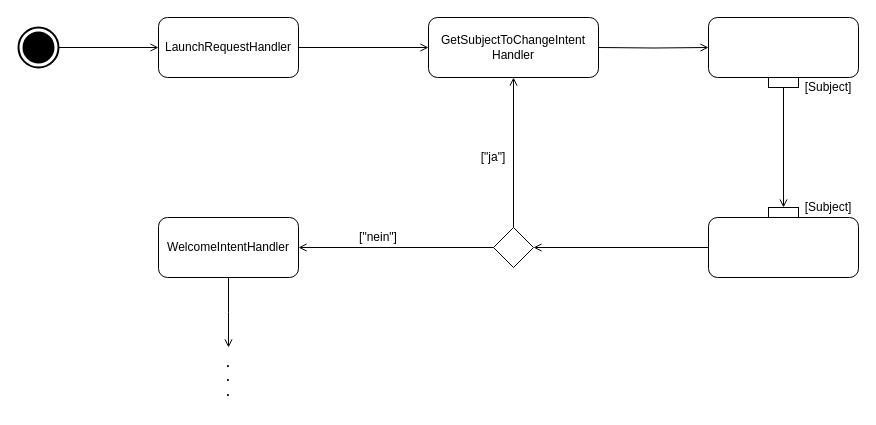
The diagram is 876 pixels wide and 425 high, and some of its shapes have lost their labels. Here are the shapes that lost their labels. From the top down, the box of each, then its label:
(708, 16, 858, 78): GetItemToChangeIntent Handler
(708, 216, 858, 278): AddOrRemoveItemIntent Handler
